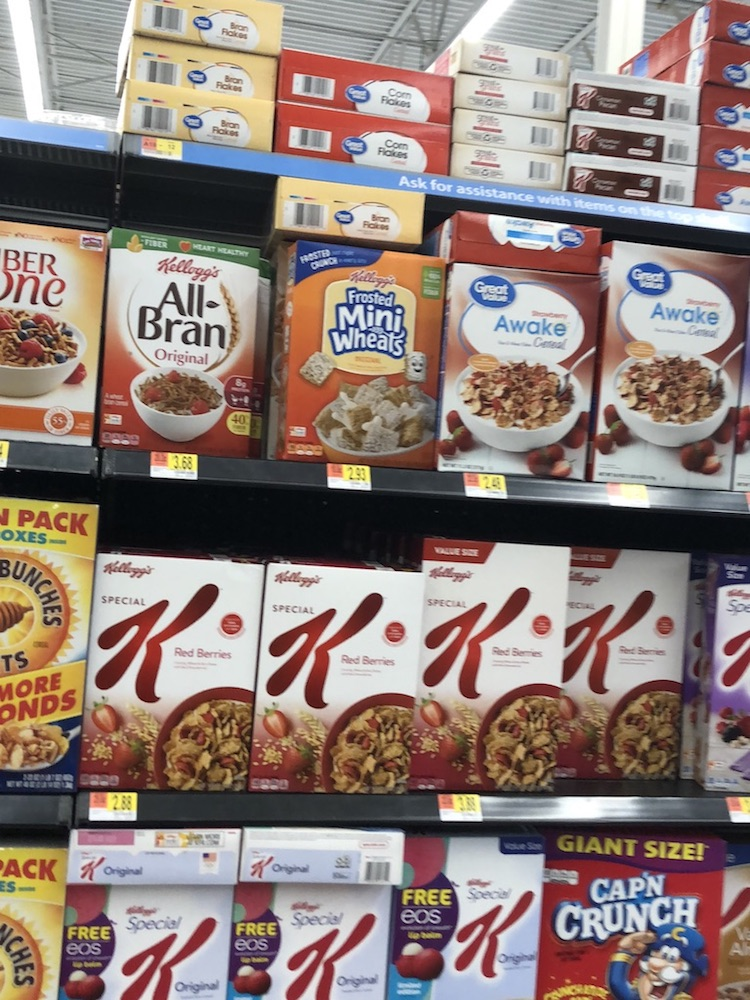Frosted Mini Original -9295869: (285, 241, 437, 466)
